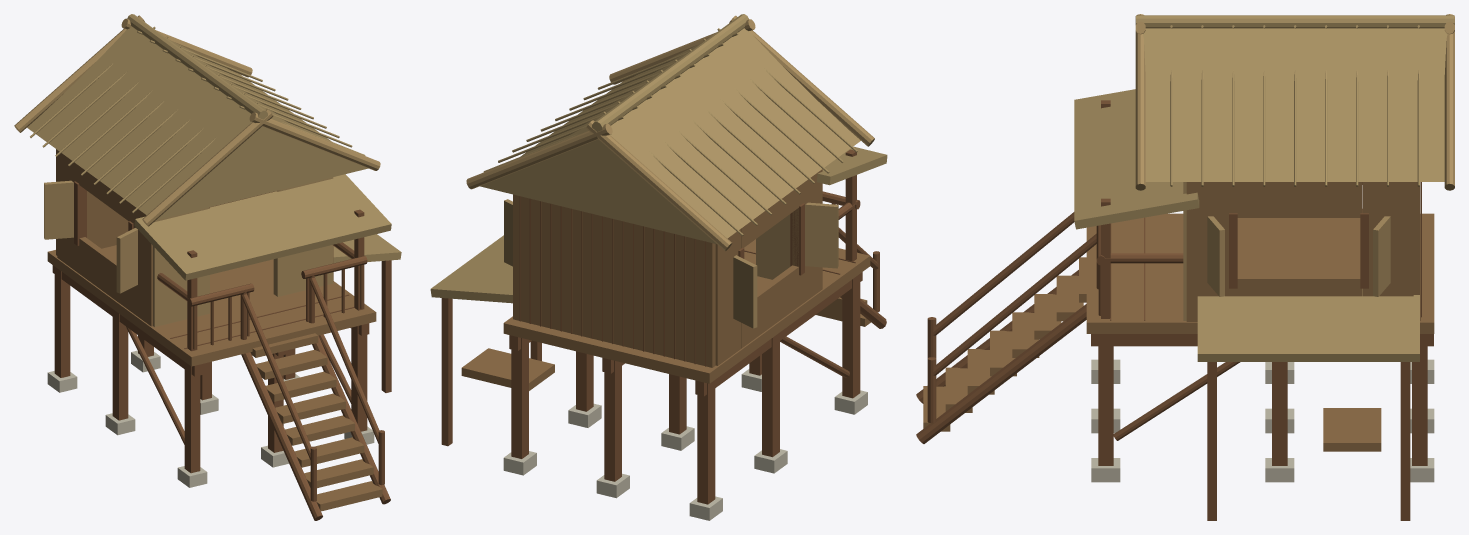
The model's file is house-kitchen-ultra.glb.
3 renders of one model, left to right at view 1: azimuth 30°, elevation 25°; view 2: azimuth 150°, elevation 25°; view 3: azimuth 270°, elevation 25°, orthographic. The views are drawn at different scales.
Parts seen in each view (by area): view 1: house-kitchen; view 2: house-kitchen; view 3: house-kitchen.
Part boxes in pixels (x1,y1,x2,y2): house-kitchen: [14, 14, 401, 520]; house-kitchen: [430, 14, 887, 520]; house-kitchen: [916, 14, 1454, 520].
Bounding box in the file's own units: 4.07 × 4.71 × 5.58.
